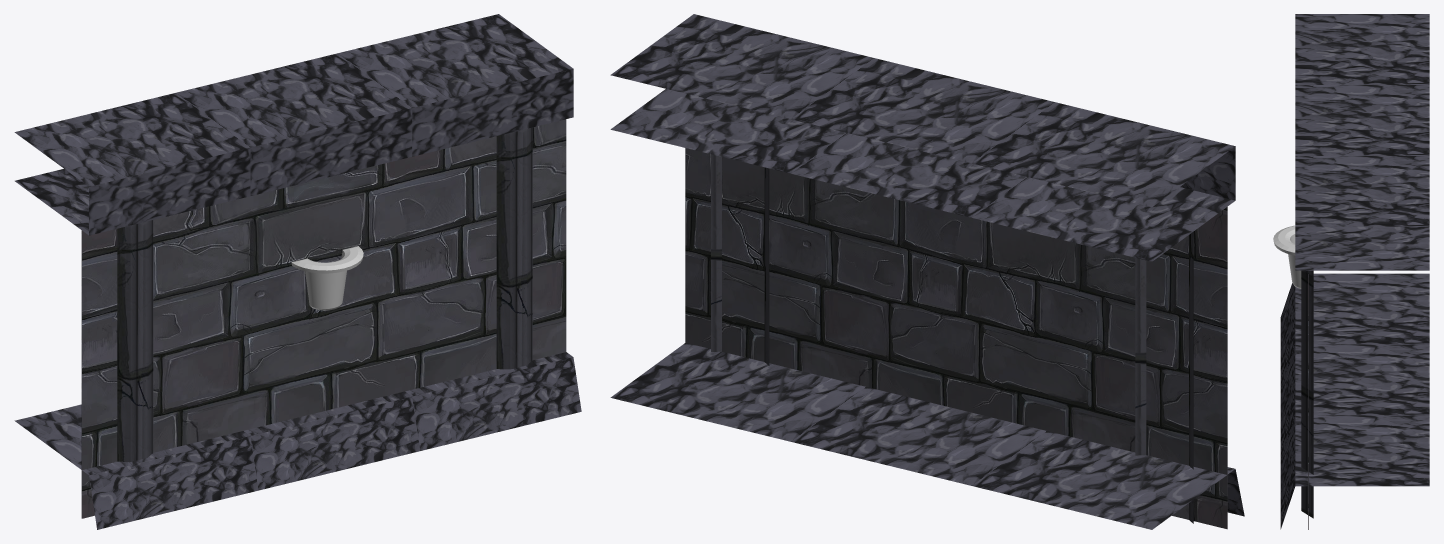
File: wall_001.FBX
3 views of the same model, side by side, from view 1: azimuth 30°, elevation 25°; view 2: azimuth 150°, elevation 25°; view 3: azimuth 270°, elevation 25° (orthographic). The views are drawn at different scales.
Visible parts, largest first — view 1: Box01, Box03, Box02, Box05, Box04, Circle01; view 2: Box06, Box03, Box02, Box04, Box05; view 3: Box03, Box02, Box05, Circle01, Box06.
Part boxes in pixels (<box>): Box01: <box>82,119,566,518</box>; Box03: <box>14,14,573,235</box>; Box02: <box>14,352,581,529</box>; Box05: <box>496,127,532,369</box>; Box04: <box>117,220,153,461</box>; Circle01: <box>291,246,363,310</box>; Box06: <box>685,148,1227,529</box>; Box03: <box>610,14,1235,261</box>; Box02: <box>610,343,1244,529</box>; Box04: <box>1135,231,1193,523</box>; Box05: <box>711,154,769,365</box>; Box03: <box>1295,14,1429,270</box>; Box02: <box>1280,273,1429,529</box>; Box05: <box>1301,270,1313,518</box>; Circle01: <box>1273,225,1301,288</box>; Box06: <box>1308,270,1308,529</box>.
Bounding box in the file's own units: 141 × 93.41 × 43.71.
